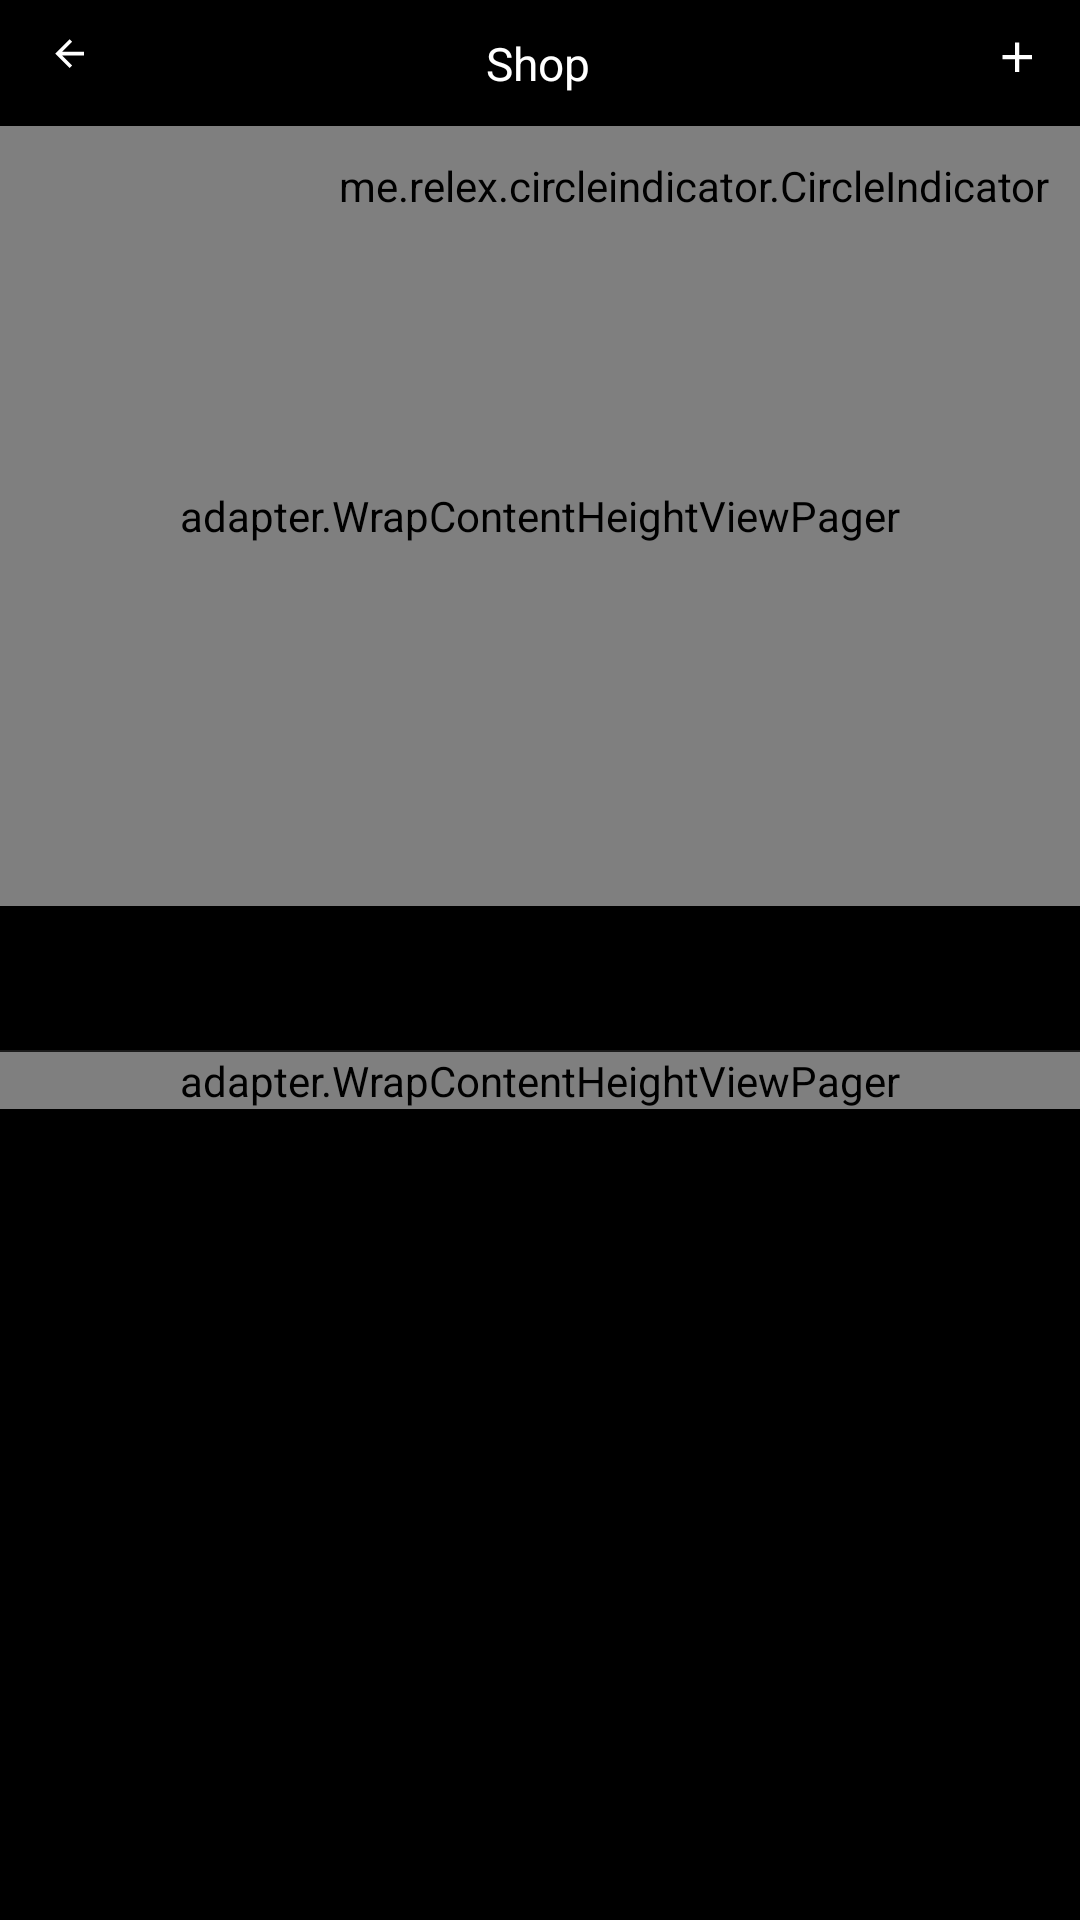

Named icons in this screenshot (1080x1920) and their centers, [x,y]:
add: [1017,57]
arrow back: [69,53]
